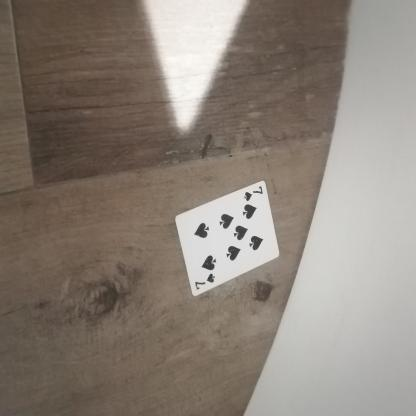7S: (186, 270, 220, 298), (240, 186, 265, 204)
